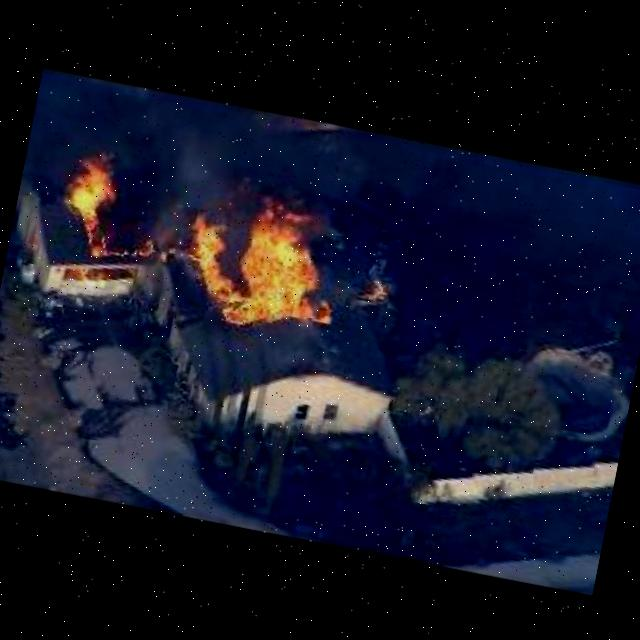fire: (225, 183, 355, 342), (56, 140, 131, 259), (180, 213, 262, 305)
